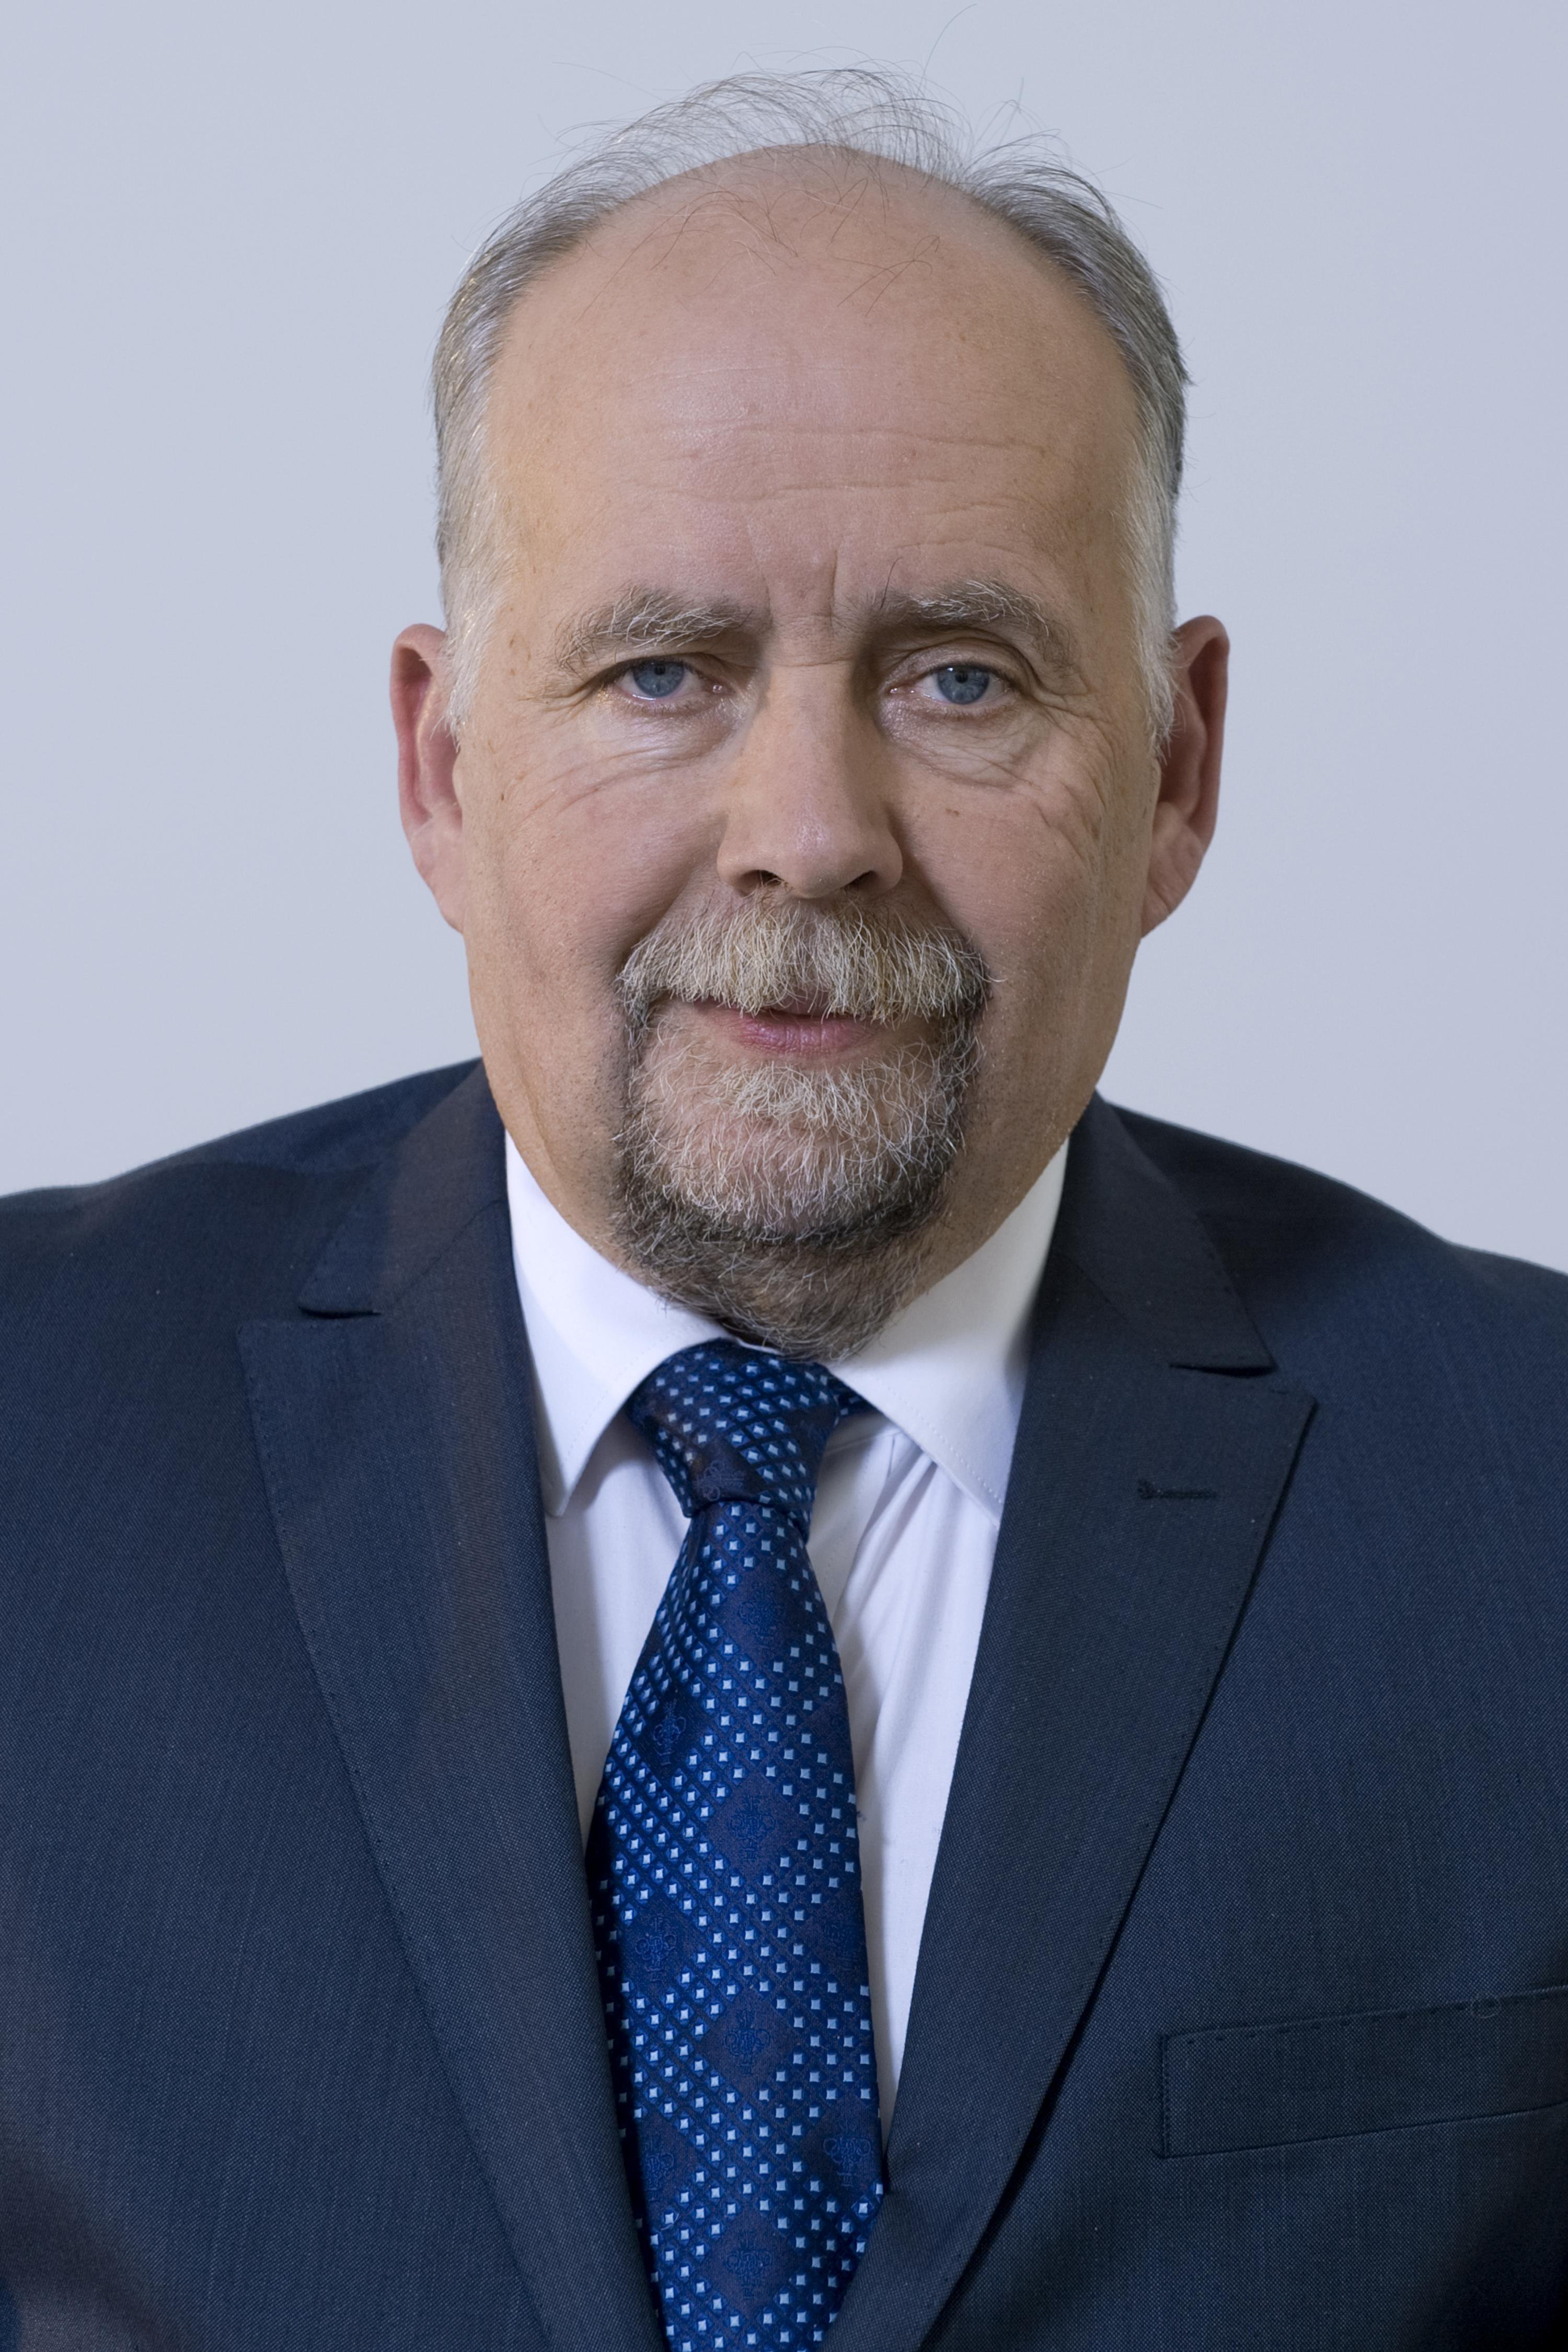noMask: (298, 116, 1269, 1310)
